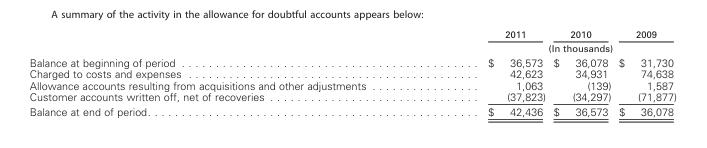table: (28, 28, 675, 117)
table column: (28, 28, 426, 117), (426, 28, 548, 117), (548, 28, 614, 117), (614, 28, 675, 117)
table column header: (28, 28, 675, 54)
table row: (28, 40, 675, 54), (28, 103, 675, 117), (28, 54, 675, 67), (28, 90, 675, 103), (28, 28, 675, 40), (28, 78, 675, 90), (28, 67, 675, 78)
table spanning cell: (426, 40, 675, 54)
